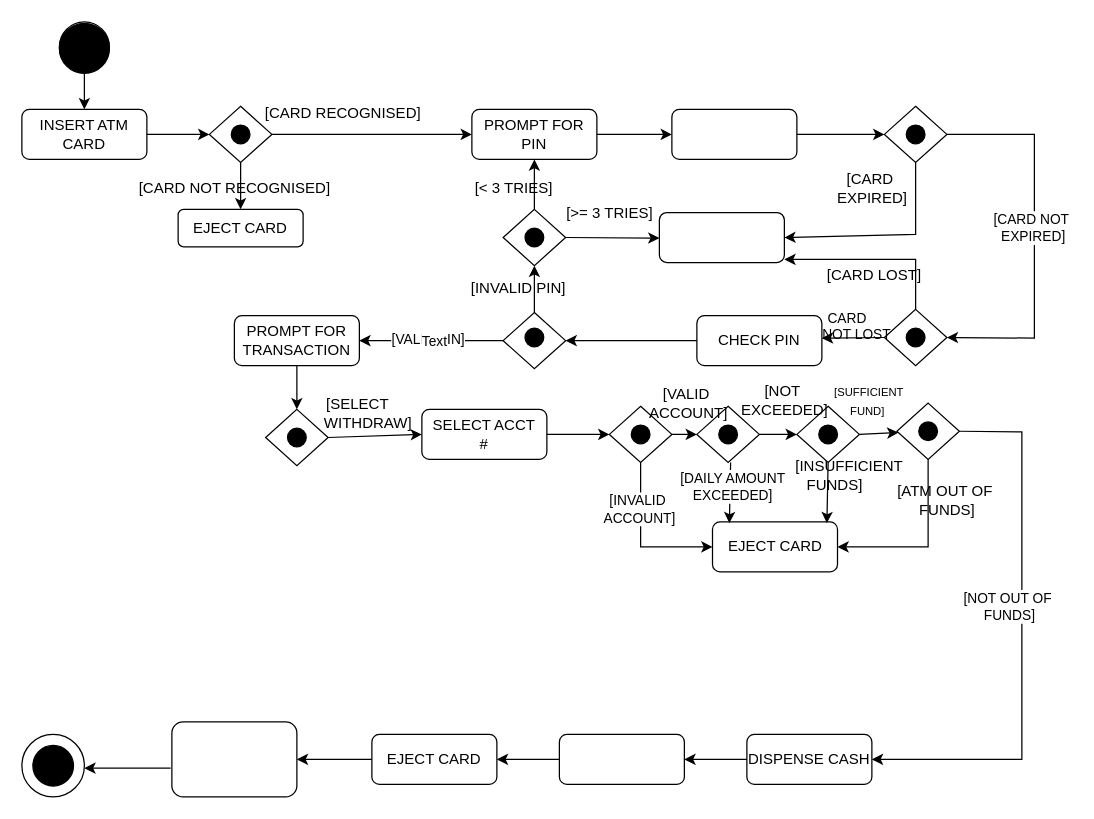
The diagram is 1094 pixels wide and 819 high, and some of its shapes have lost their labels. The centre of each missing label's shape, as x and y in pixels:
"CONFISCATE CARD" belongs at (721,236).
"ENTER PIN" belongs at (734,133).
"PRINT RECEIPT" belongs at (621,758).
"PRINT WELCOME MESSAGE" belongs at (234,759).
